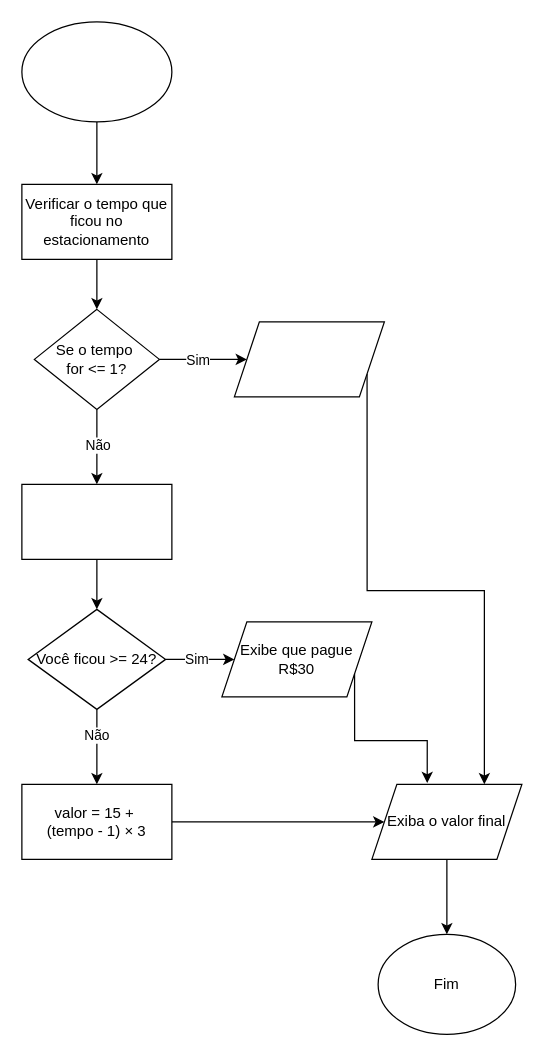
Image size: 544x1056. Some labels were removed from this diagram. The shapes that lost their labels are listed below. From the top down, each one's box as (x1, y1, x2, y2) in pixels, then its label:
(21, 21, 172, 122): Inicio
(233, 321, 384, 397): Exiba que Pagará R$15
(21, 483, 172, 559): Próxima decisão
